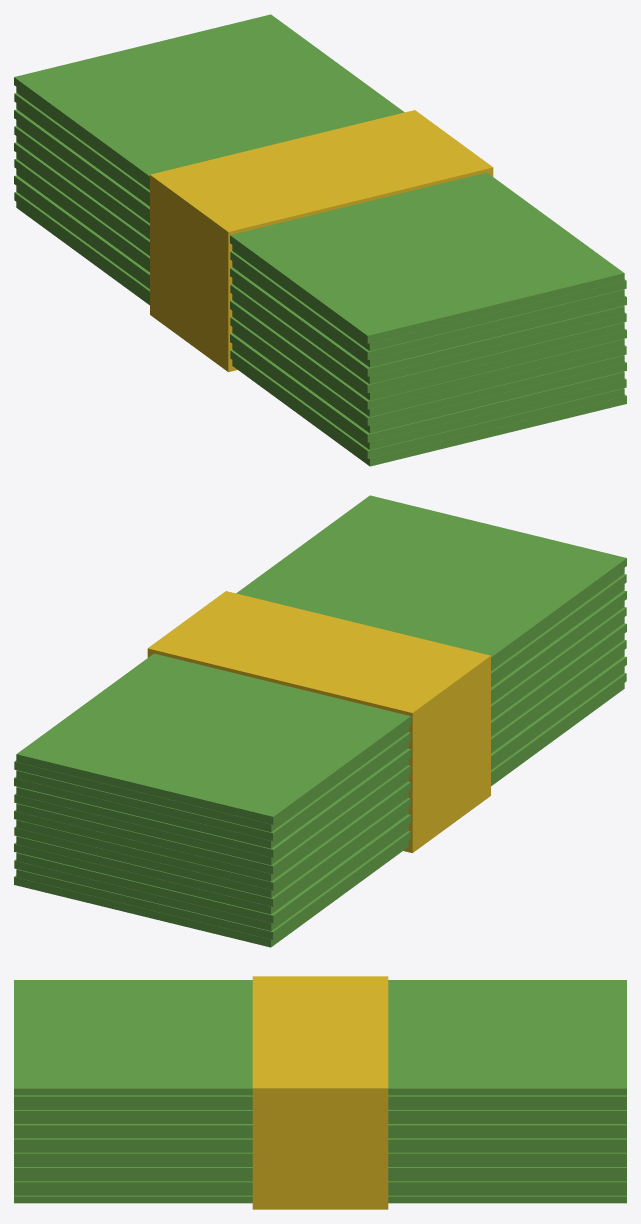
The model's file is dollarBills.fbx.
3 views of the same model, one above another, from view 1: azimuth 30°, elevation 25°; view 2: azimuth 150°, elevation 25°; view 3: azimuth 270°, elevation 25° (orthographic). The views are drawn at different scales.
Parts seen in each view (by area): view 1: Plane, Cube; view 2: Plane, Cube; view 3: Plane, Cube.
Part boxes in pixels (box(x1,y1,x2,y2)): Plane: box(14, 14, 626, 466); Cube: box(150, 110, 493, 371); Plane: box(14, 495, 626, 947); Cube: box(147, 591, 490, 852); Plane: box(14, 980, 626, 1203); Cube: box(252, 976, 388, 1209).
Size of the model in its own units: 1.04 by 0.5237 by 2.39.
